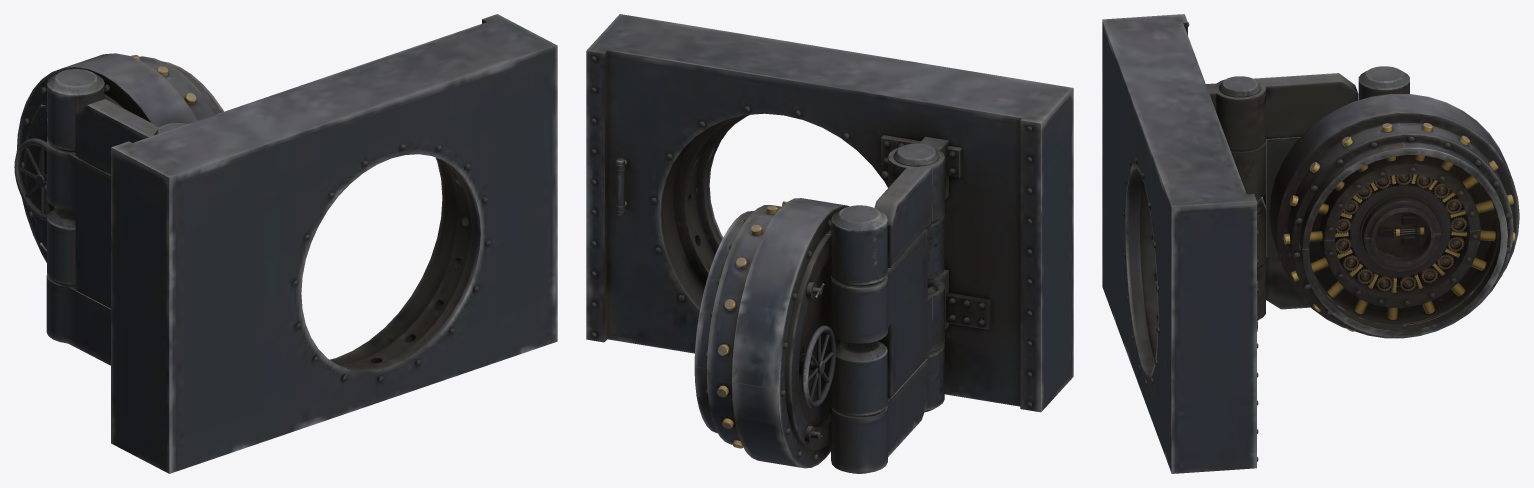
Rendered from bank_vault_armored_door_low_poly.glb.
3 views of the same model, side by side, from view 1: azimuth 30°, elevation 25°; view 2: azimuth 150°, elevation 25°; view 3: azimuth 270°, elevation 25° (orthographic). The views are drawn at different scales.
Parts seen in each view (by area): view 1: Object_3; view 2: Object_3; view 3: Object_3, Object_2.
Boxes of the visible parts, x1,y1,x2,y2 form: Object_3: (14,14,557,473); Object_3: (586,14,1073,473); Object_3: (1102,14,1519,473); Object_2: (1309,155,1498,323).
Bounding box in the file's own units: 4.85 × 3.13 × 4.43.
2 materials, 2 textured.
